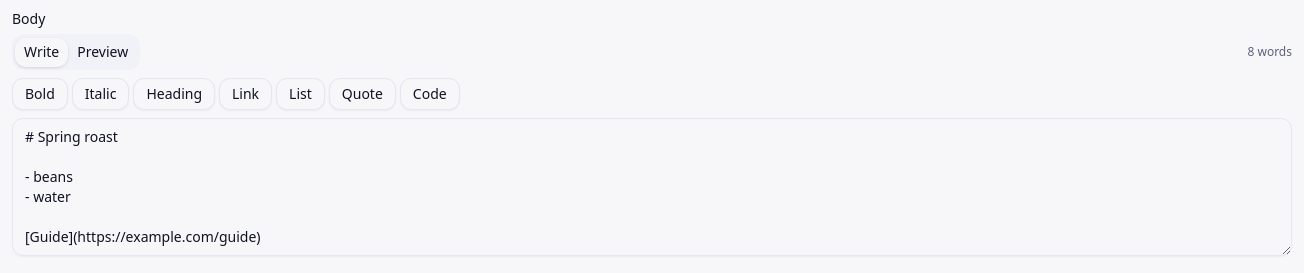
Test case: a markdown field › previews headings, links and lists
Press the mouse on the tab "Preview": (103, 52) [68,38,137,66]
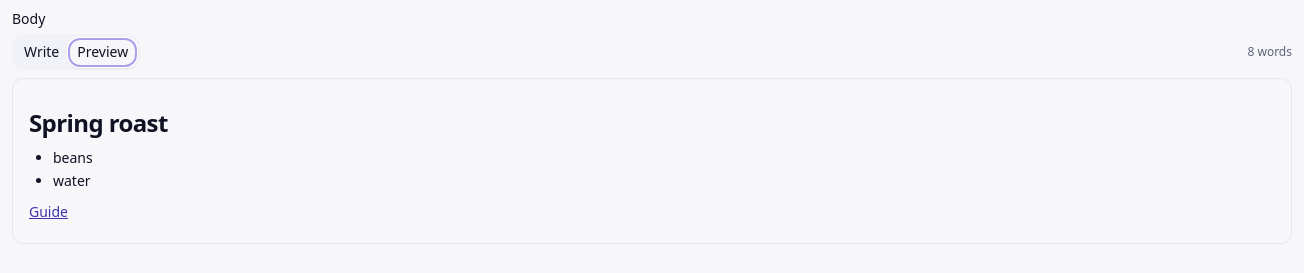
Expected: the heading "Spring roast" is shown, [29,106,168,139]
Expected: the number of list items is 2, [53,148,93,167]; [53,171,91,190]
